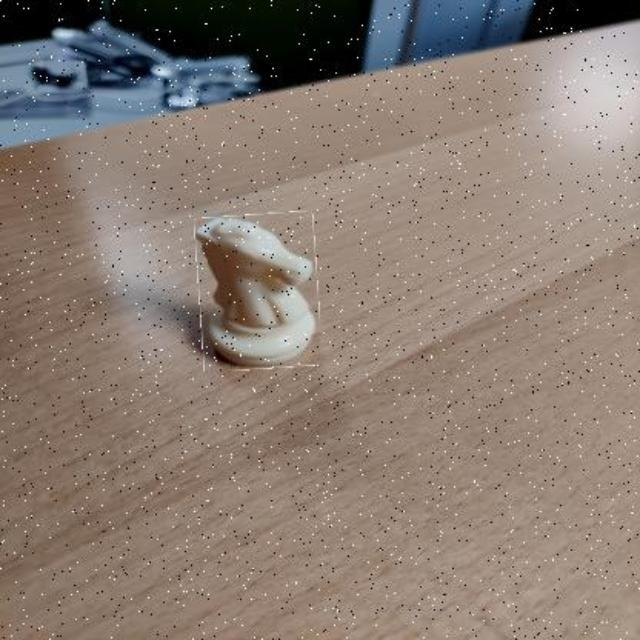white-knight: (196, 213, 319, 371)
